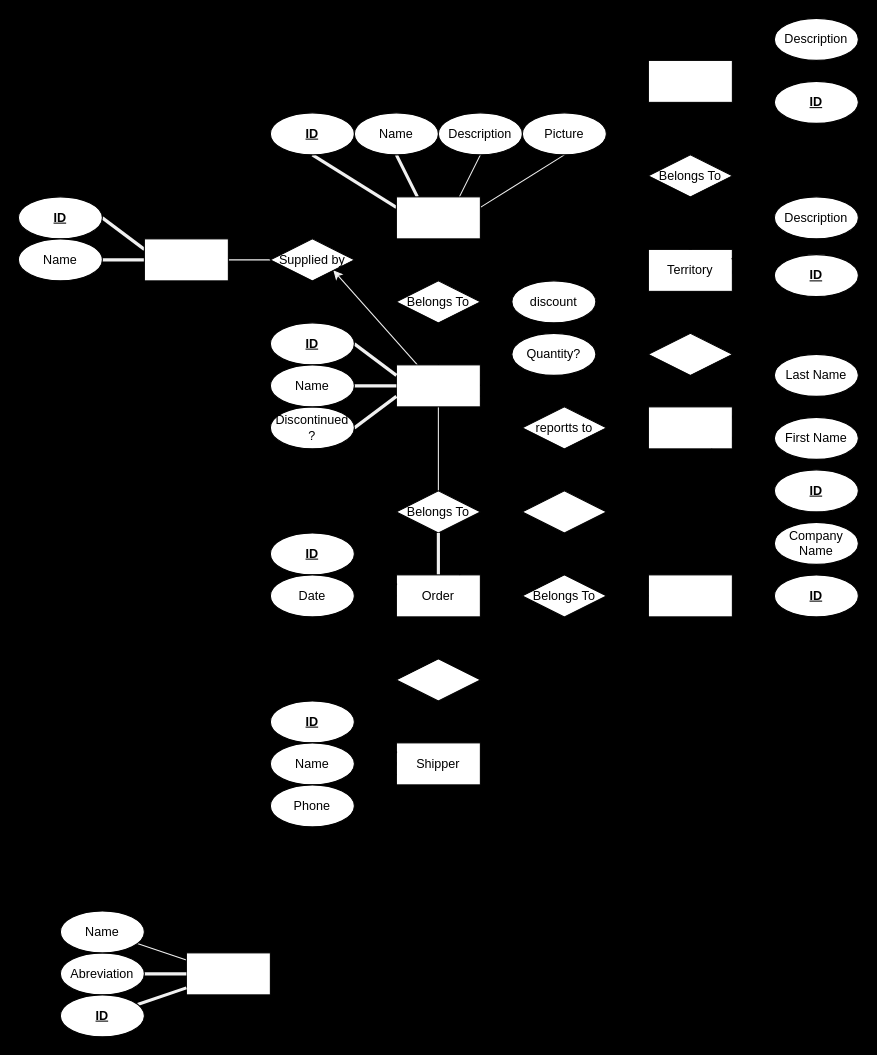
This 877x1055 diagram has some shape labels left out. Each missing label, with the box of its shape:
Category: (395, 196, 480, 239)
Customer: (647, 574, 732, 617)
Employee: (647, 406, 732, 449)
Product: (395, 364, 480, 407)
Region: (647, 59, 732, 102)
shipped by: (395, 658, 480, 701)
Supplier: (143, 238, 228, 281)
US State: (185, 952, 270, 995)
Worked on: (647, 332, 732, 375)
works on: (521, 490, 606, 533)
